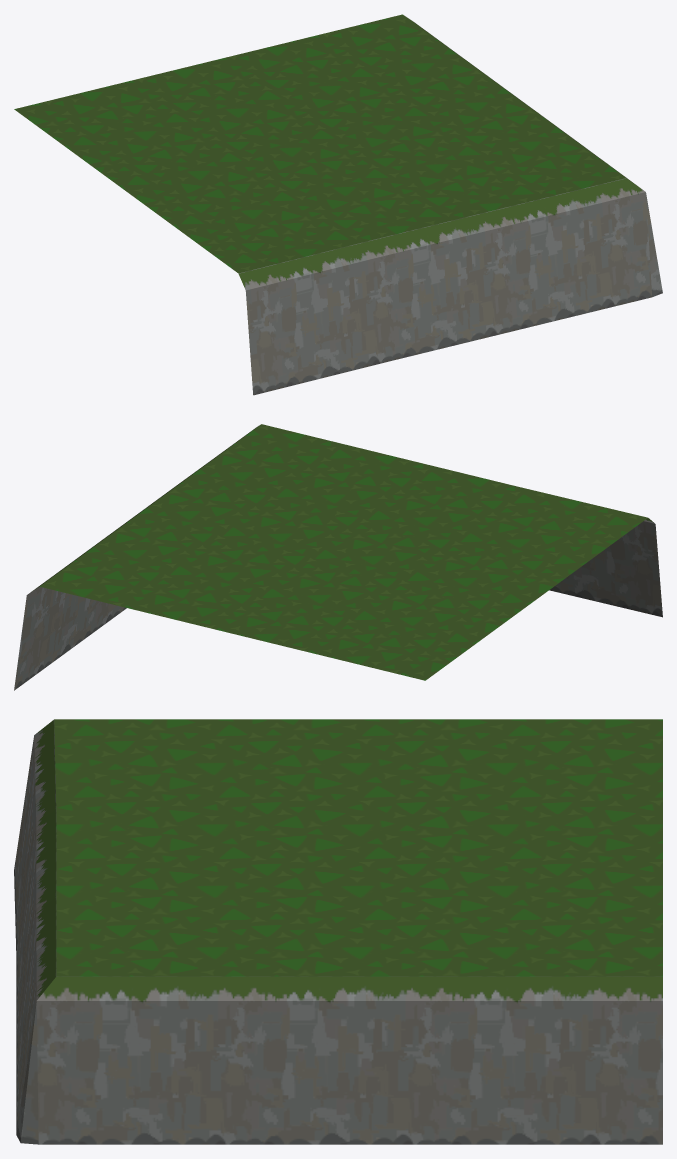
Rendered from chunk_0010.glb.
3 renders of one model, top to bottom at view 1: azimuth 30°, elevation 25°; view 2: azimuth 150°, elevation 25°; view 3: azimuth 270°, elevation 25°, orthographic. The views are drawn at different scales.
Visible parts, largest first — view 1: chunk_0010; view 2: chunk_0010; view 3: chunk_0010.
Boxes of the visible parts, box(x1,y1,x2,y2) form: chunk_0010: box(14, 14, 662, 395); chunk_0010: box(14, 424, 662, 690); chunk_0010: box(14, 719, 662, 1144).
Size of the model in its own units: 7.8 by 2 by 7.8.
Materials: 2 (2 with a texture image).
